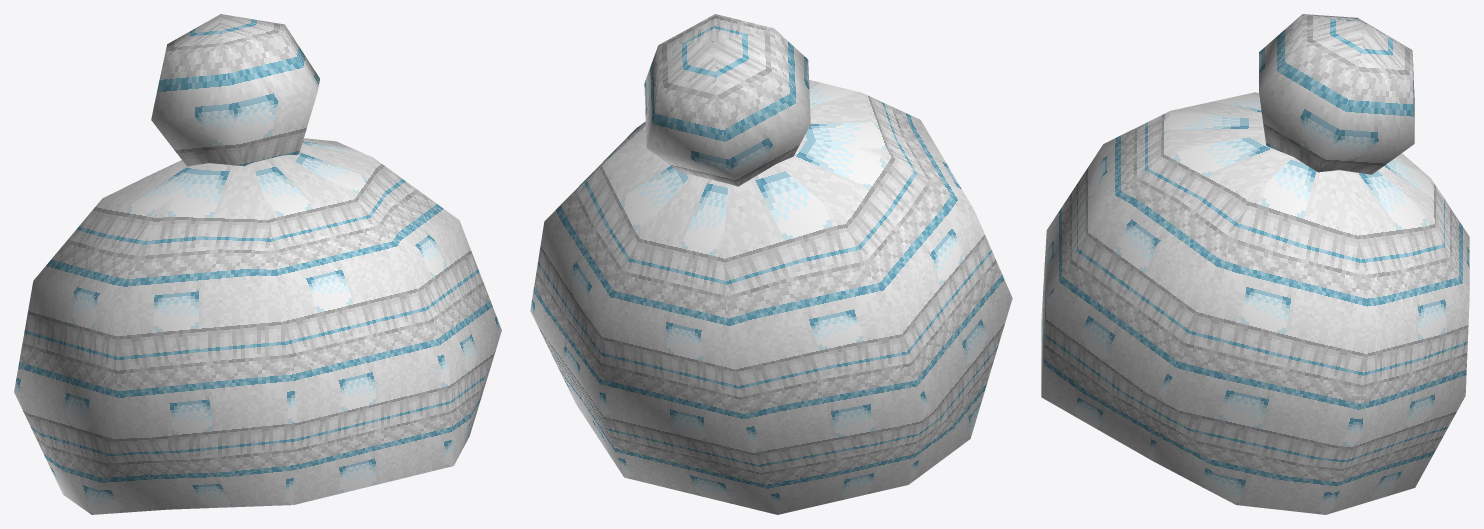
Rendered from code_head26.gltf.
3 views of the same model, side by side, from view 1: azimuth 30°, elevation 25°; view 2: azimuth 150°, elevation 25°; view 3: azimuth 270°, elevation 25° (orthographic). The views are drawn at different scales.
Parts seen in each view (by area): view 1: code_head26; view 2: code_head26; view 3: code_head26.
Boxes of the visible parts, x1=… form: code_head26: x1=14, y1=14, x2=501, y2=514; code_head26: x1=530, y1=14, x2=1012, y2=514; code_head26: x1=1041, y1=14, x2=1469, y2=514.
Size of the model in its own units: 0.708 by 0.7437 by 0.6685.
1 material, 1 textured.
